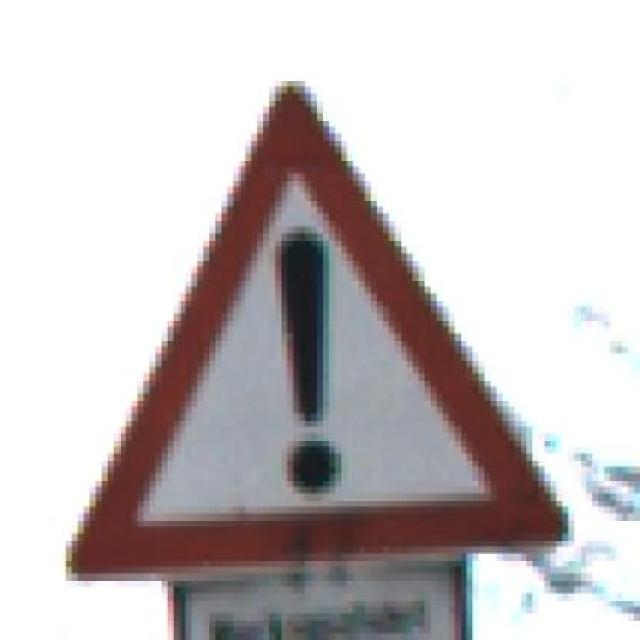Attention Please-: (42, 66, 586, 574)
